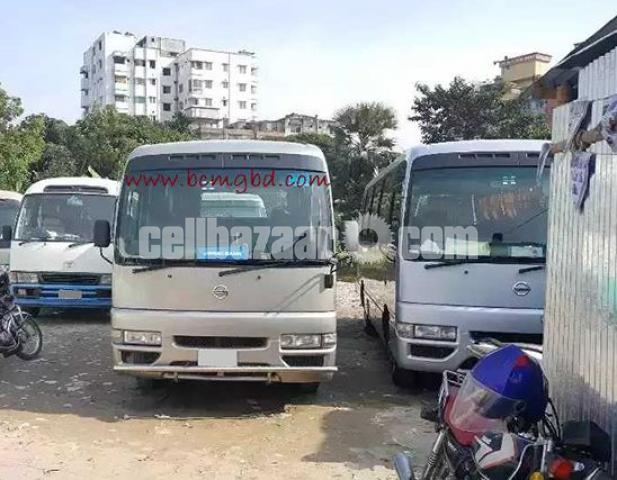bike: (390, 368, 605, 480), (1, 270, 39, 364)
bus: (111, 139, 341, 402), (359, 137, 552, 375), (12, 173, 126, 312)
